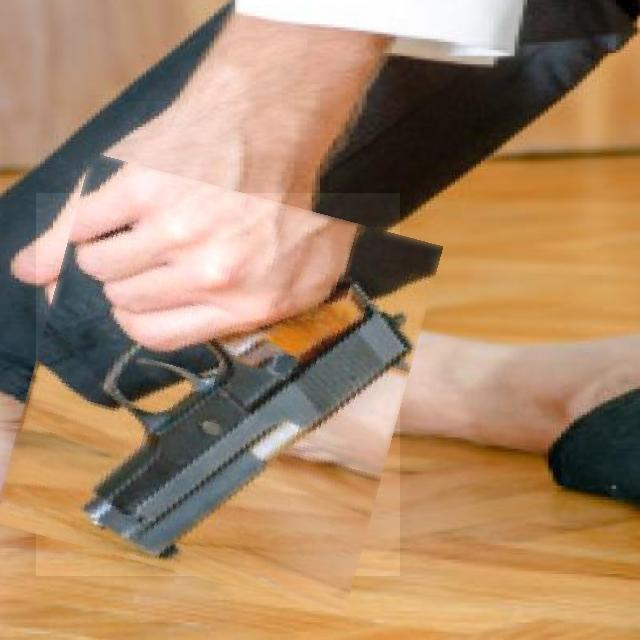handgun: (14, 300, 422, 596)
